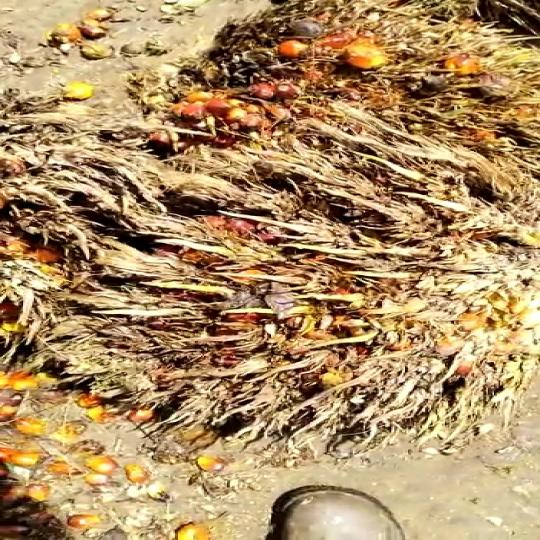terlalu masak: (0, 139, 523, 443)
